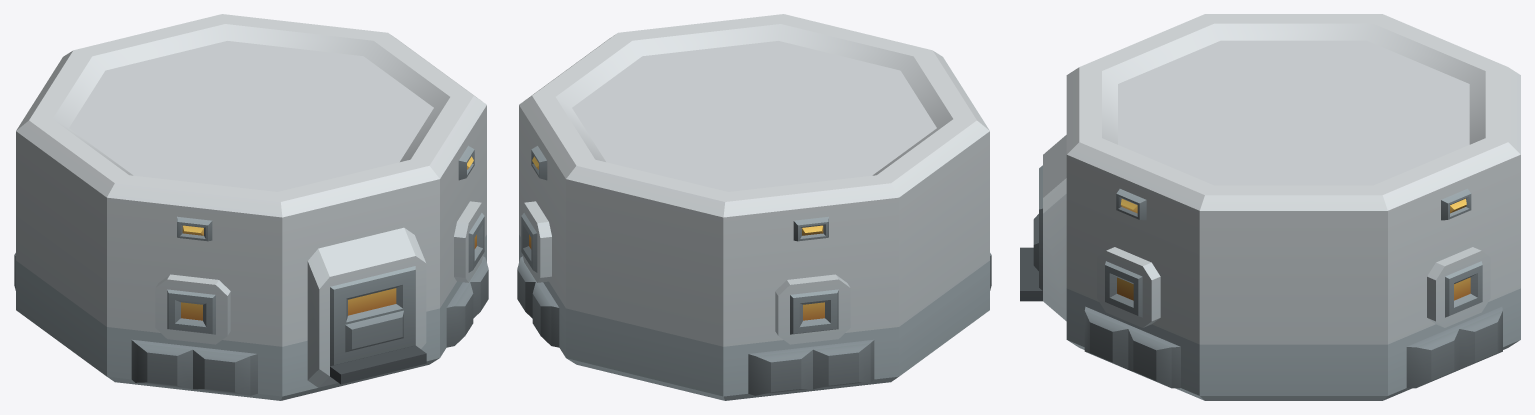
The model's file is basemodule_c.glb.
The picture shows the model from 3 angles, left to right: view 1: azimuth 30°, elevation 25°; view 2: azimuth 150°, elevation 25°; view 3: azimuth 270°, elevation 25°; orthographic projection. The views are drawn at different scales.
Visible parts, largest first — view 1: basemodule_C; view 2: basemodule_C; view 3: basemodule_C.
Boxes of the visible parts, x1,y1,x2,y2 form: basemodule_C: (14, 14, 488, 400); basemodule_C: (517, 14, 991, 400); basemodule_C: (1020, 14, 1520, 400).
Size of the model in its own units: 6 by 3 by 6.62.
Materials: 1 (1 with a texture image).
